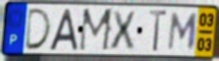A: (47, 7, 80, 53)
D: (23, 7, 53, 51)
M: (77, 7, 115, 53), (166, 11, 200, 52)
T: (147, 9, 169, 54)
X: (109, 10, 137, 51)
